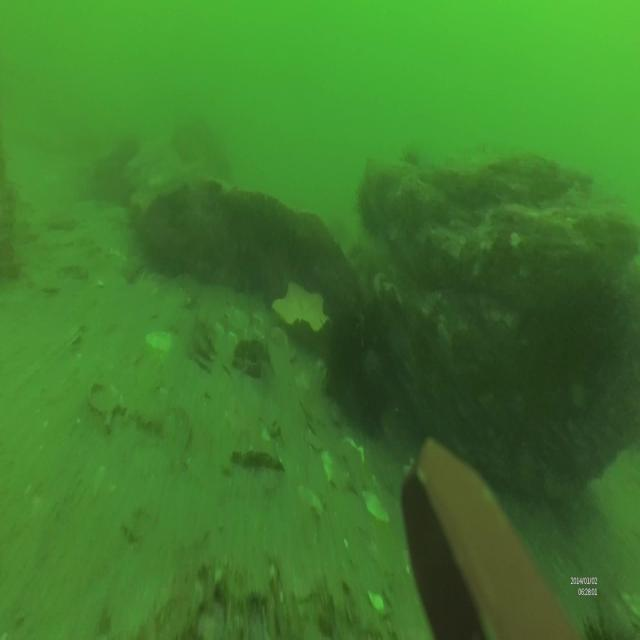starfish: (270, 280, 331, 340)
